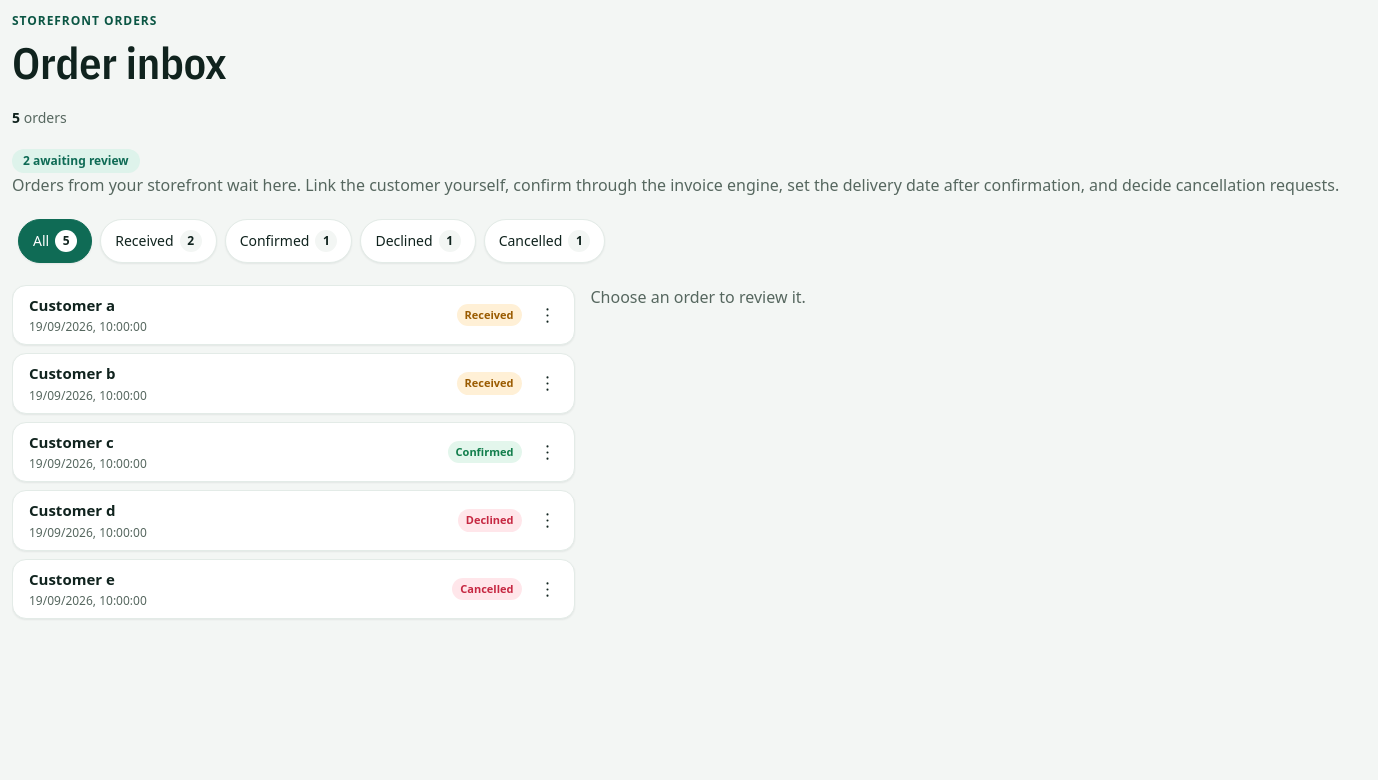
Test: state chips count the entire loaded inbox and filter locally without changing the waiting count
The image size is (1378, 780).
Check: the button "Customer a 19/09/2026, 10:00:00 Received" is shown, box [13,286,526,344]
Check: the element with class "list-head-count" reads "5 orders", box [12,107,67,128]
Click the button "Received 2".
click(158, 241)  # box [100,219,217,263]
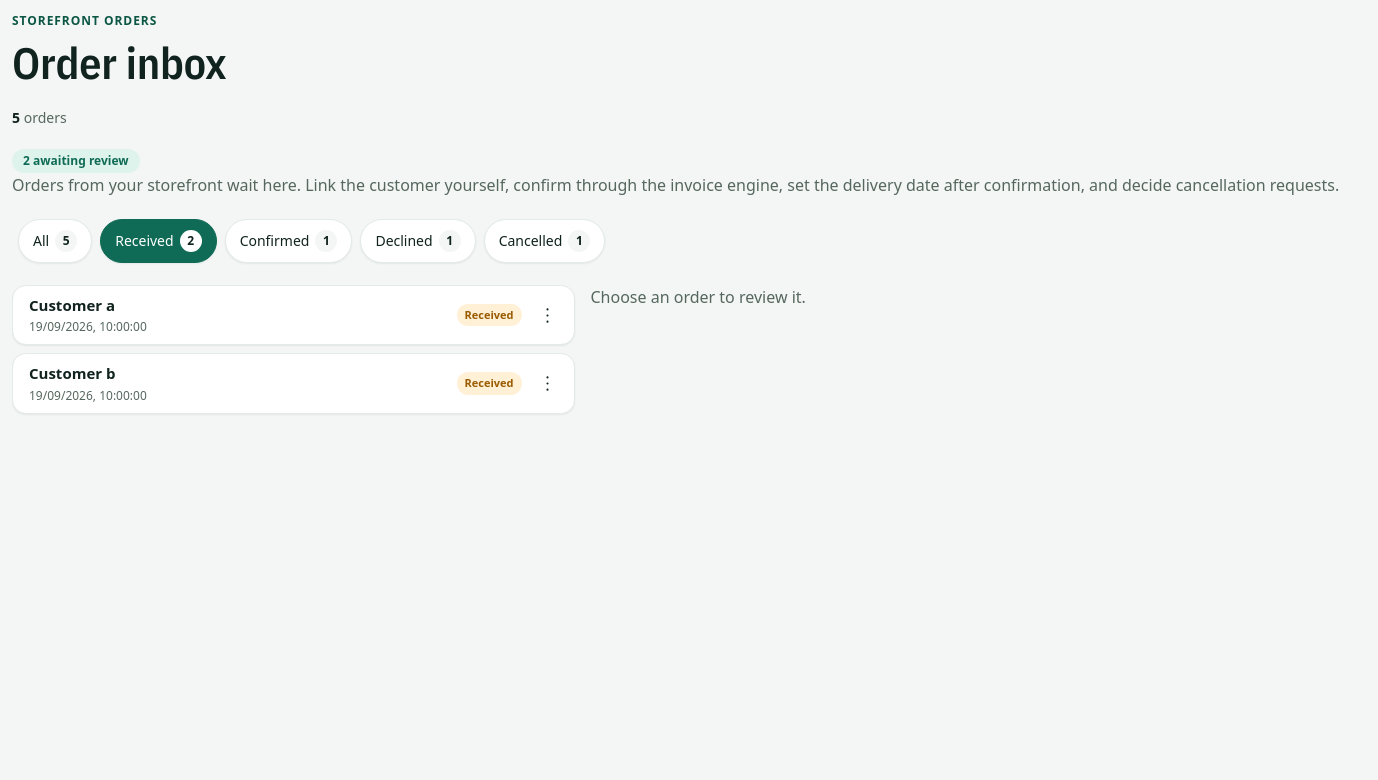
Check: the button "Customer a 19/09/2026, 10:00:00 Received" is shown, box [13,286,526,344]
Check: the number of list items is 2, box [12,285,574,345]; [12,353,574,414]
Click the button "Confirmed 1".
click(288, 241)  # box [225,219,352,263]
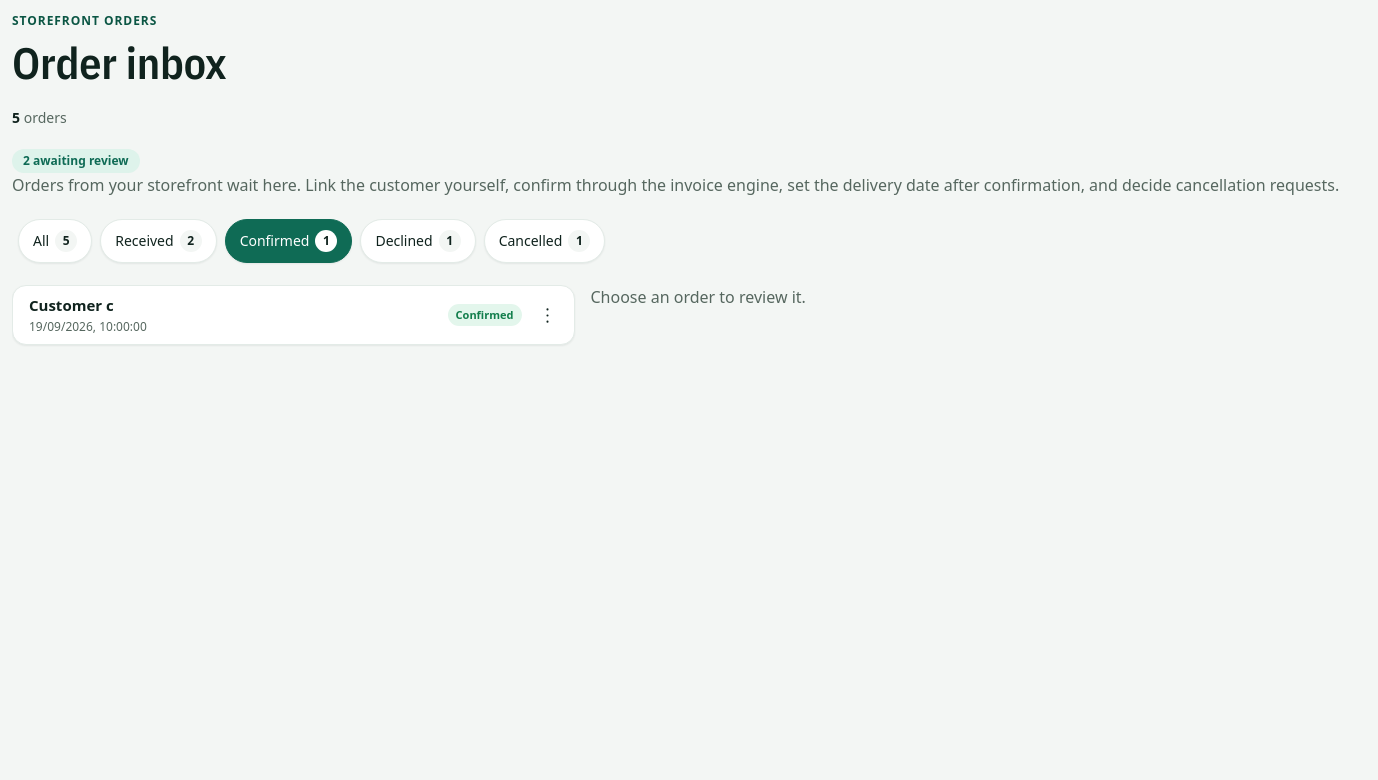
Check: the text "2 awaiting review" is shown, box [12,149,140,173]
Check: the number of list items is 1, box [12,285,574,345]
Click the button "Declined 1".
click(418, 241)  # box [360,219,476,263]
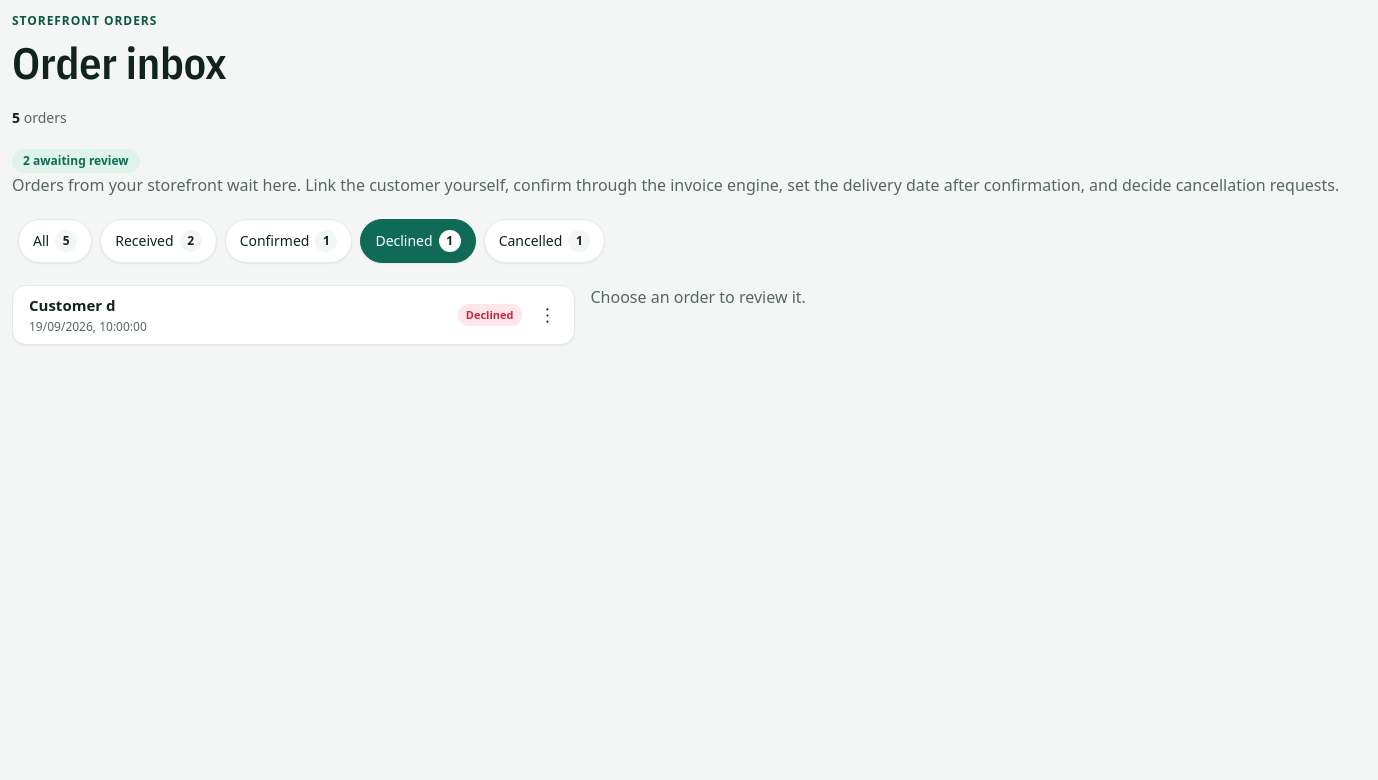
Check: the text "2 awaiting review" is shown, box [12,149,140,173]
Check: the number of list items is 1, box [12,285,574,345]
Click the button "Cancelled 1".
click(544, 241)  # box [484,219,605,263]
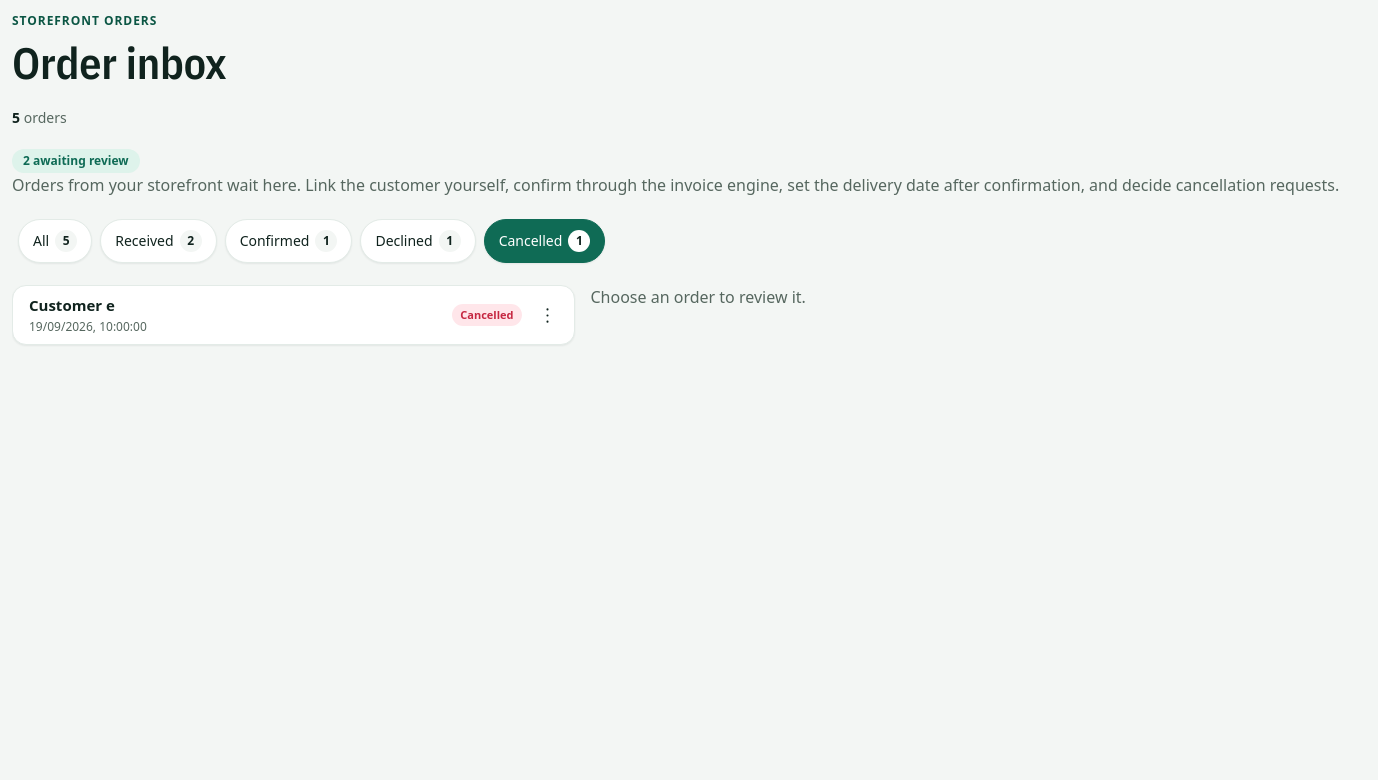
Check: the text "2 awaiting review" is shown, box [12,149,140,173]
Check: the number of list items is 1, box [12,285,574,345]
Click the button "All 5".
click(55, 241)  # box [18,219,92,263]
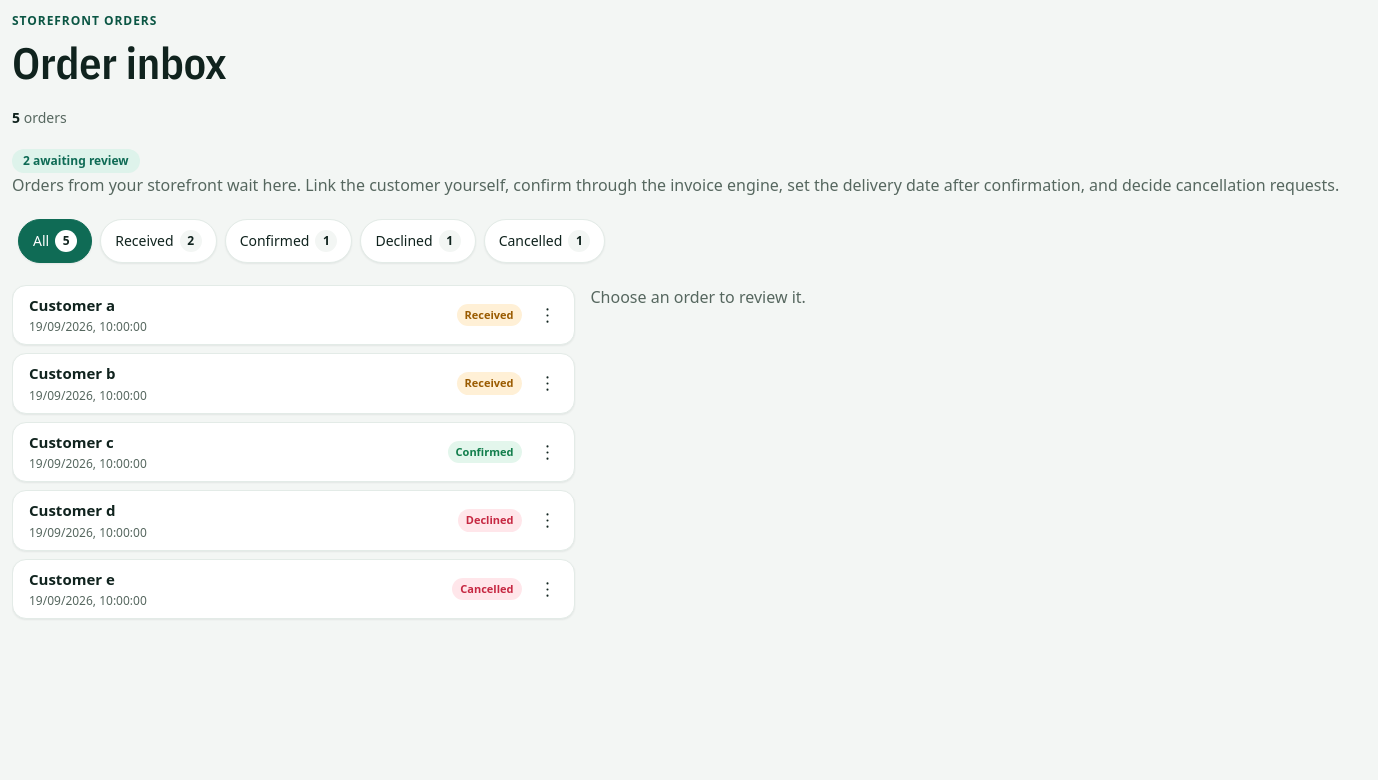
Check: the text "2 awaiting review" is shown, box [12,149,140,173]
Check: the number of list items is 5, box [12,285,574,345]; [12,353,574,414]; [12,422,574,482]; [12,490,574,551]; [12,559,574,619]
Check: the button "Customer a 19/09/2026, 10:00:00 Received" is shown, box [13,286,526,344]
